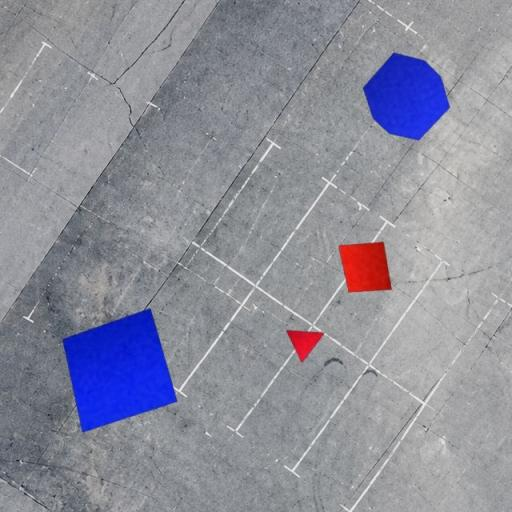BLUE_SQUARE: (62, 308, 178, 434)
RED_SQUARE: (338, 242, 392, 292)
